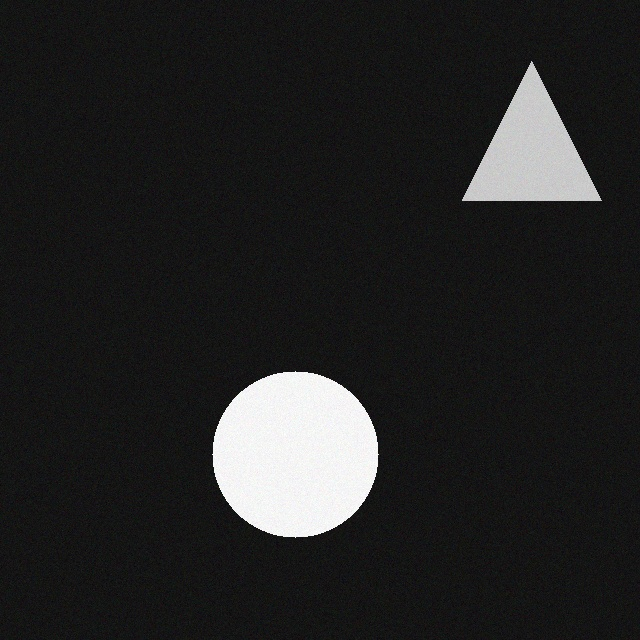circle: (227, 377, 393, 543)
triangle: (477, 67, 616, 206)
